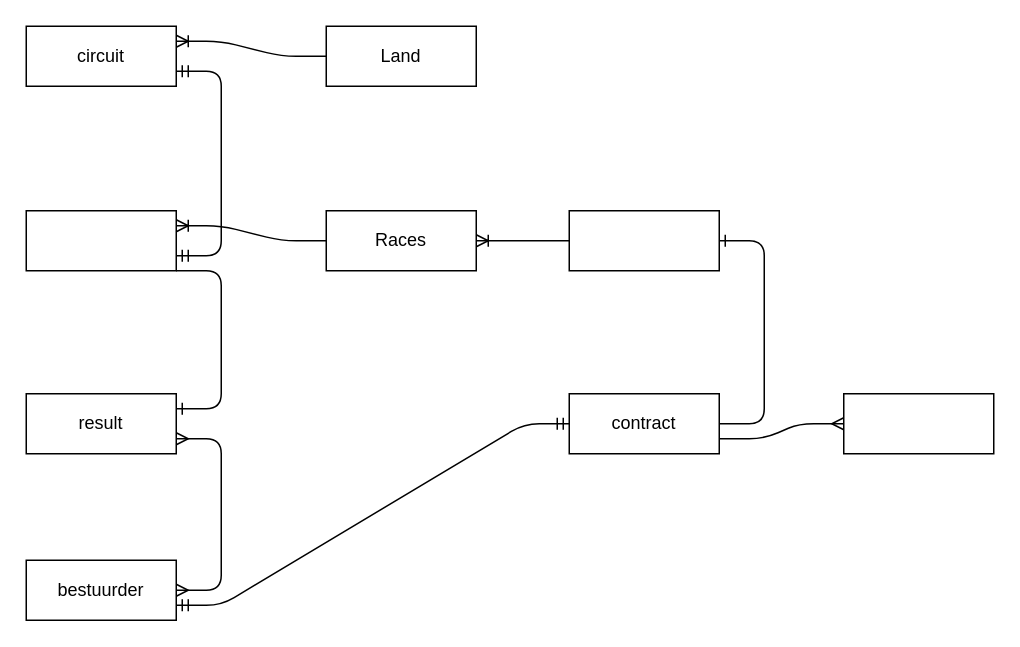
The diagram is 1020 pixels wide and 647 high, and some of its shapes have lost their labels. The centre of each missing label's shape, as x and y in pixels:
"race" belongs at (100,240).
"seizoen" belongs at (643,240).
"Team" belongs at (918,423).
